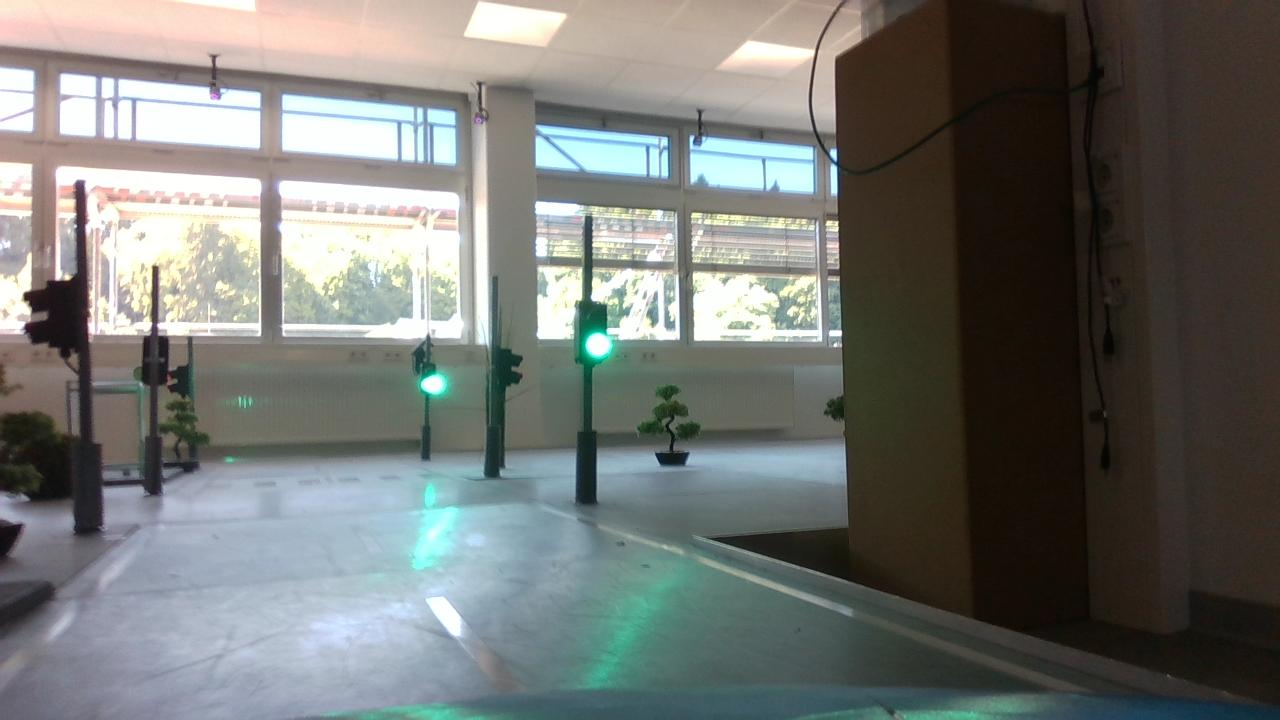traffic_light_green: (569, 294, 622, 379)
